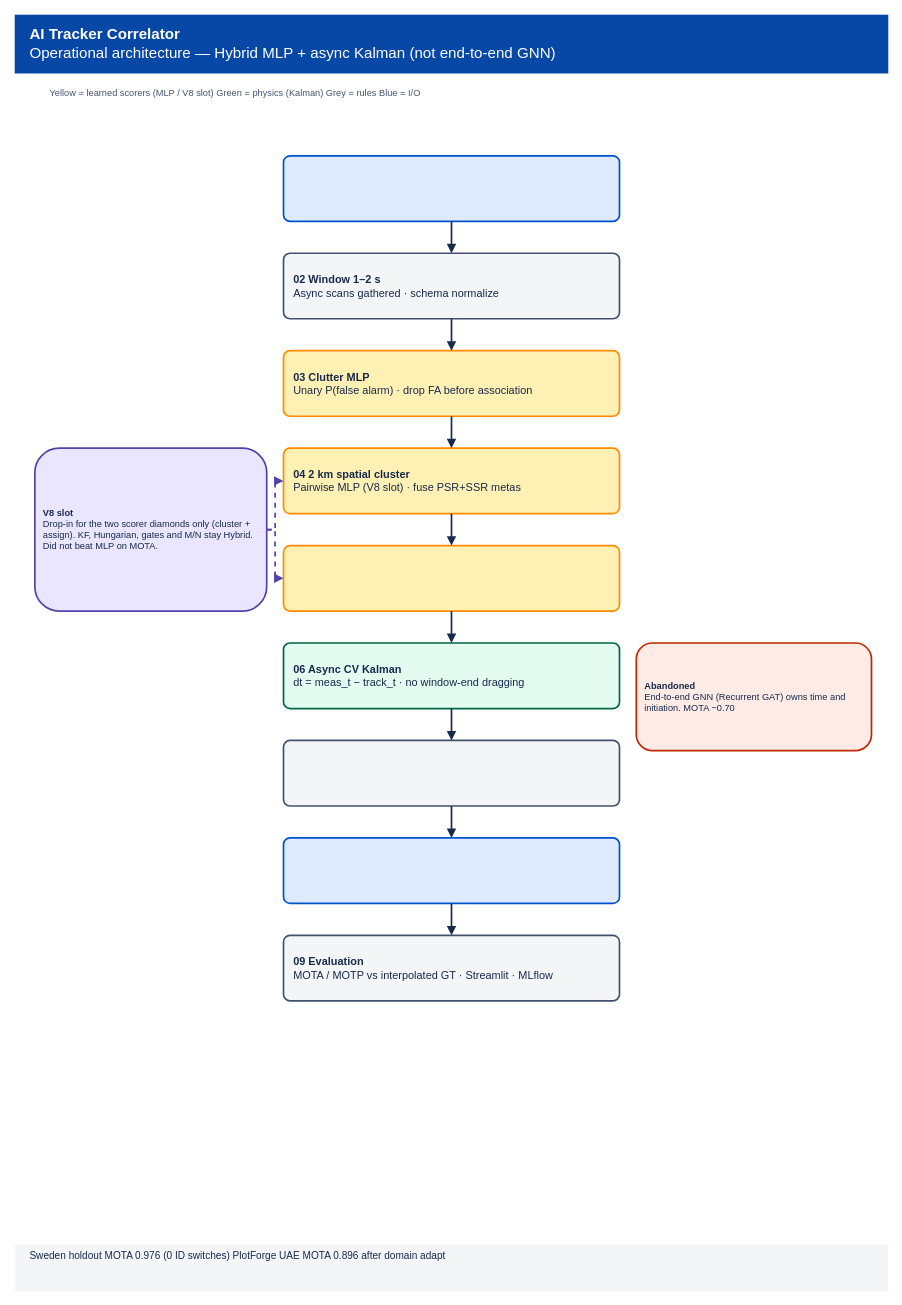
The diagram is 902 pixels wide and 1305 high, and some of its shapes have lost their labels. Each missing label, with the centre of its shape:
01 JSONL plots PSR + SSR · t, x,y,z · Mode-3A / Mode-S: pixel 451 188
05 8 km temporal assign Project track → meas_t · Hungarian · optional dustbin: pixel 451 578
07 M/N track manager min_hits = 2 · max_age = 10 · tentative → confirmed: pixel 451 772
08 Confirmed fused tracks One track per aircraft · stable id · scan-time latency: pixel 451 870
